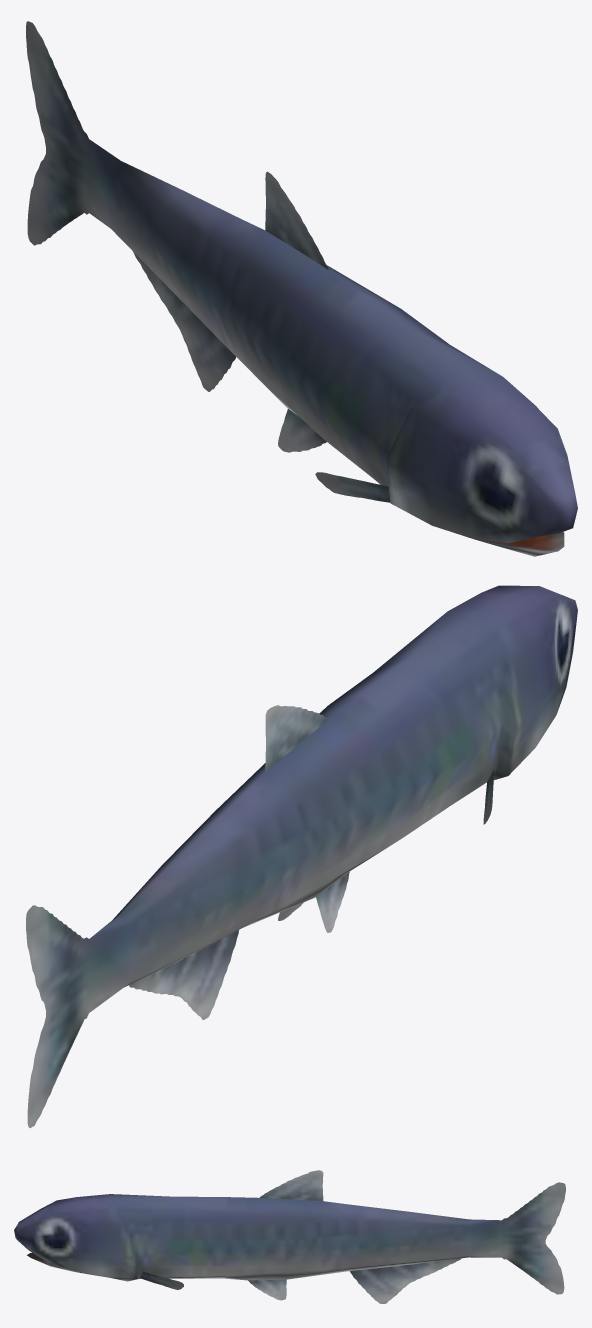
The model's file is anchovy.glb.
3 views of the same model, one above another, from view 1: azimuth 30°, elevation 25°; view 2: azimuth 150°, elevation 25°; view 3: azimuth 270°, elevation 25° (orthographic). The views are drawn at different scales.
Bounding box in the file's own units: 0.7809 × 1.18 × 4.1.
Materials: 1 (1 with a texture image).
